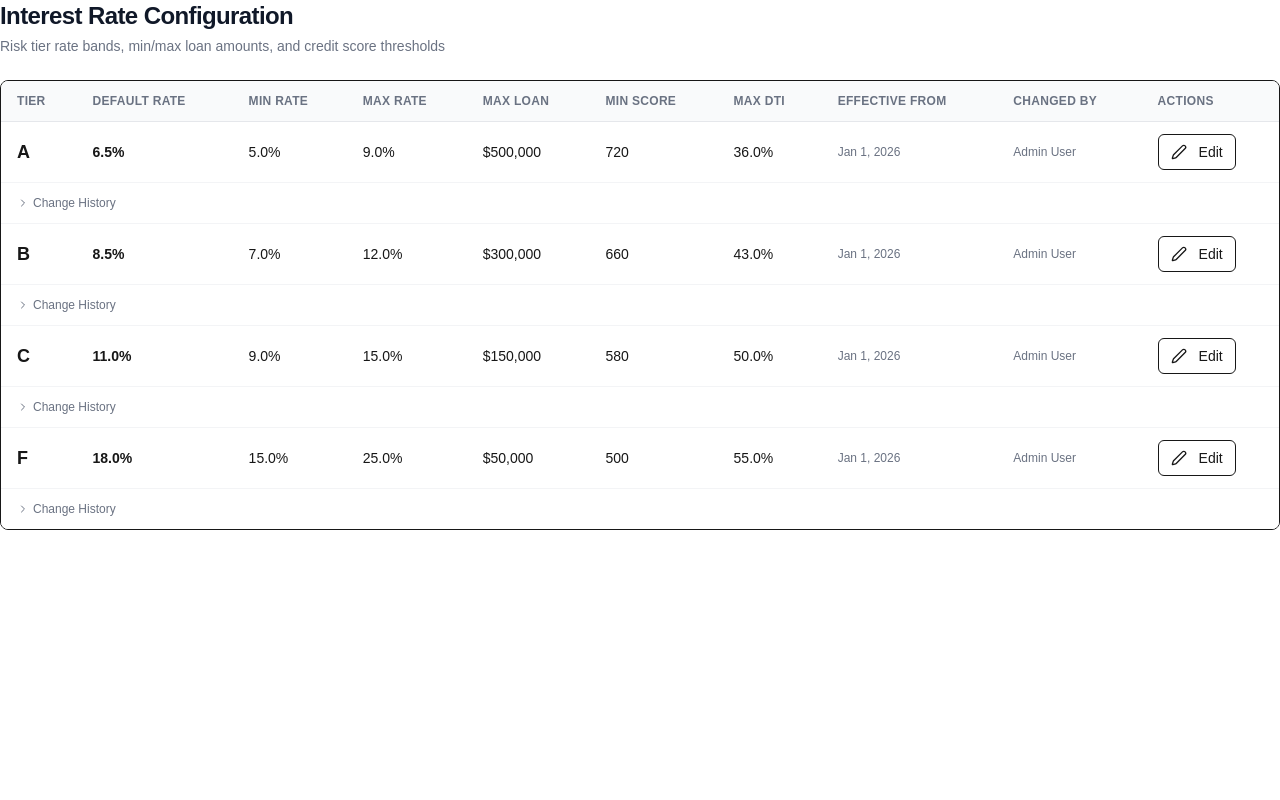
Test: InterestRatesPage › edit form for ADMIN › shows validation error when min > default rate
Click the button "Edit" in the row of "6.5%": (1197, 152) [1158,134,1236,170]
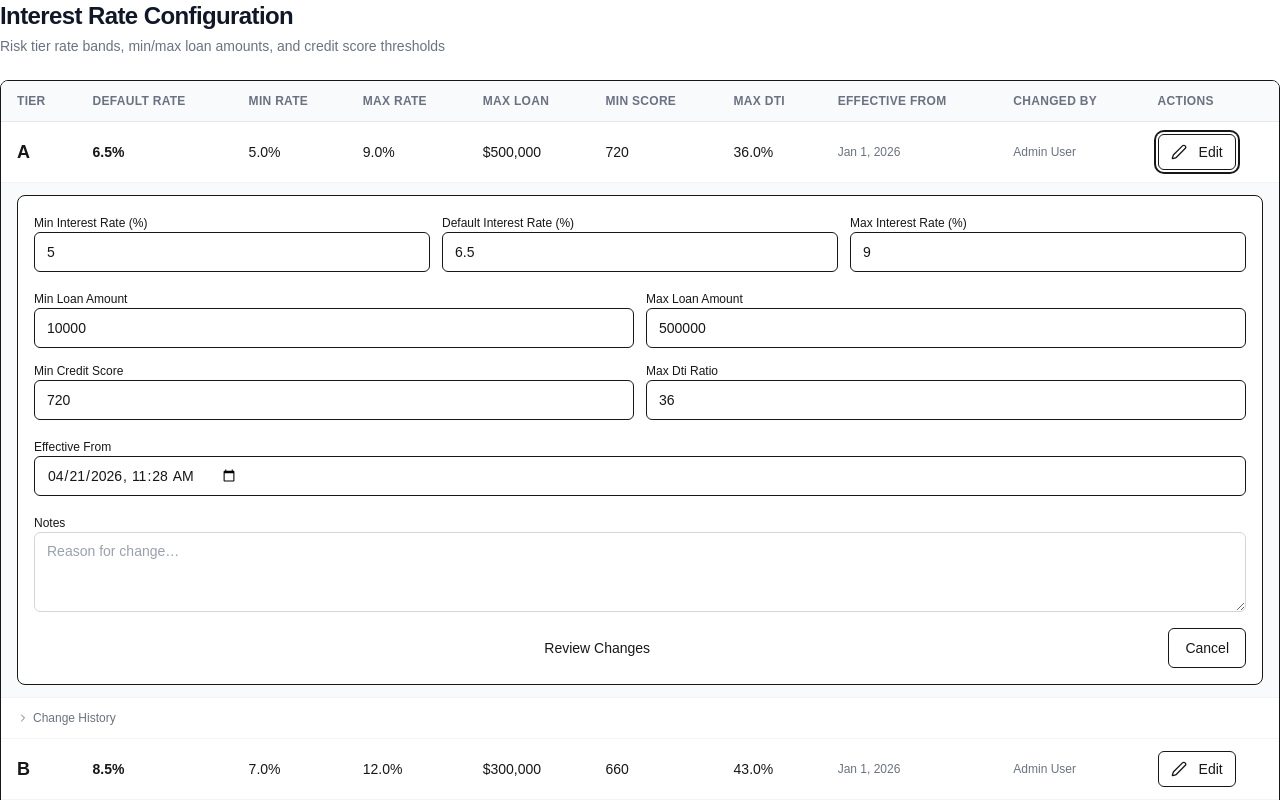
Expected: the button "Review Changes" is shown, [34,628,1160,668]
// Set min rate higher than default
Replace the text in the number field showing "5" below "min interest rate" with "20": (232, 252) [34,232,430,272]
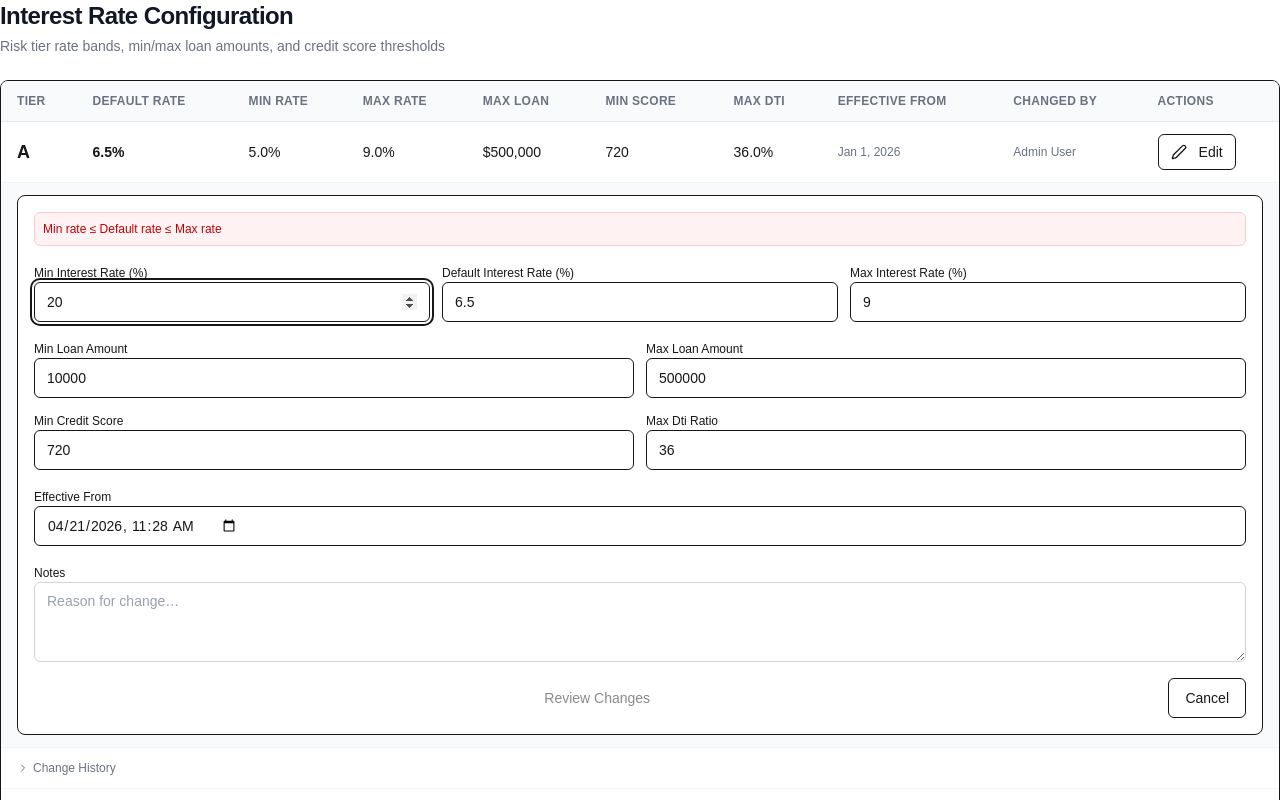
Expected: the text "Min rate ≤ Default rate ≤ Max rate" is shown, [34,212,1246,246]
